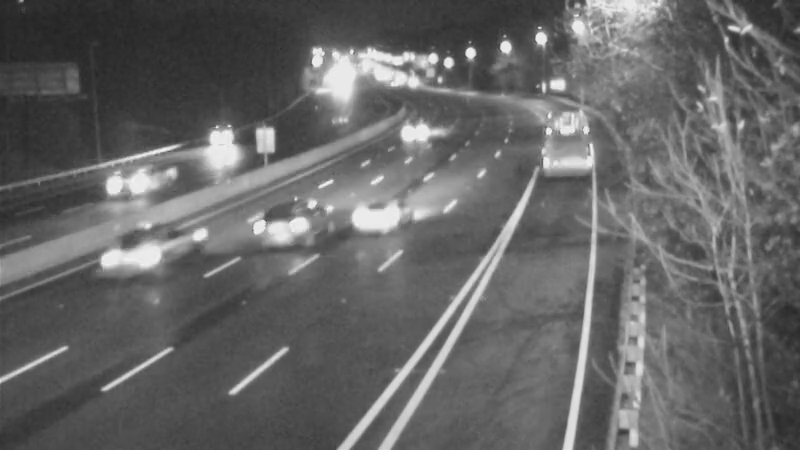vehicle: (93, 216, 173, 296), (335, 180, 415, 260), (252, 187, 332, 267), (115, 147, 195, 227), (525, 120, 575, 170), (394, 102, 444, 152), (209, 117, 259, 167)
